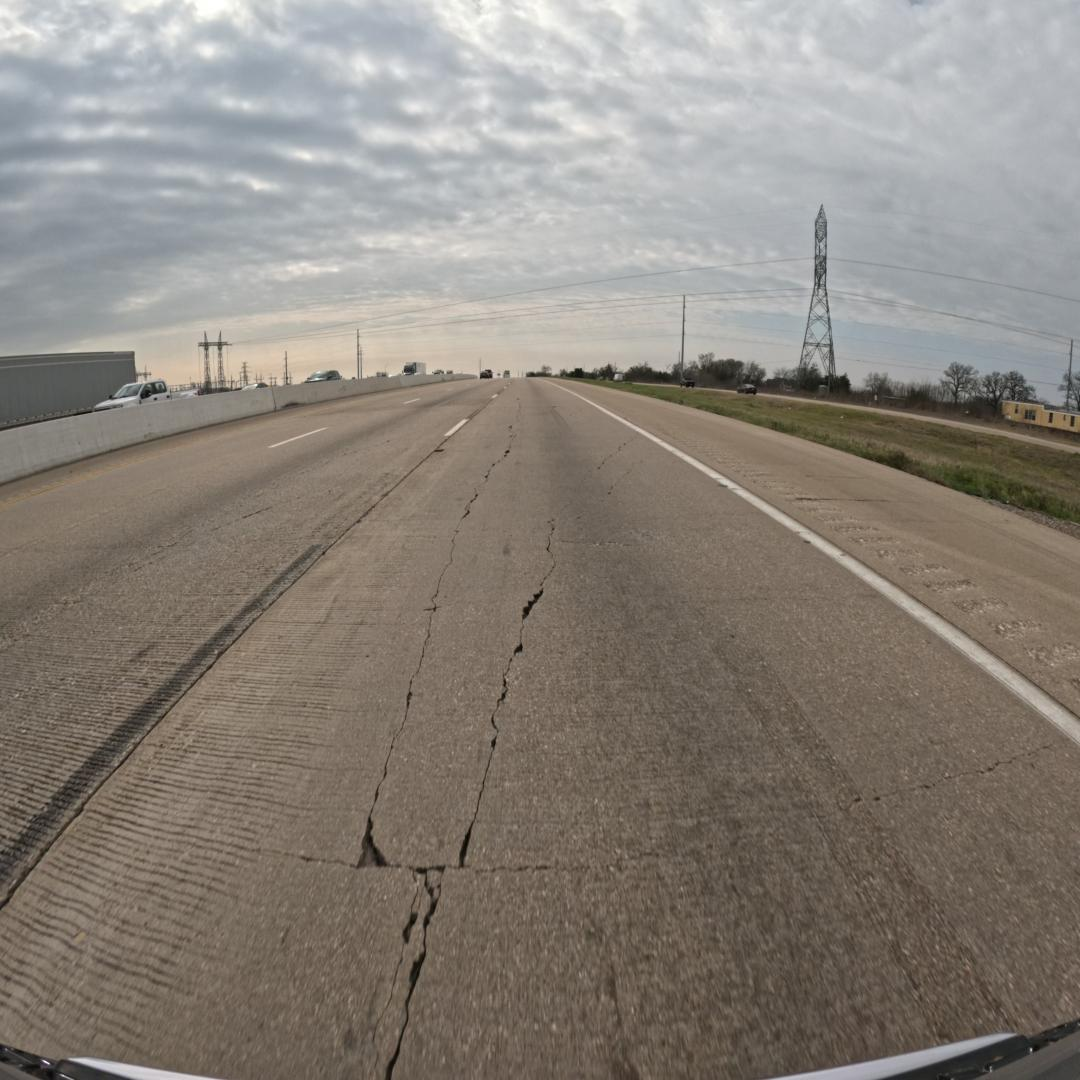lane0: (0, 385, 1080, 1076)
lane1: (0, 385, 505, 914)
